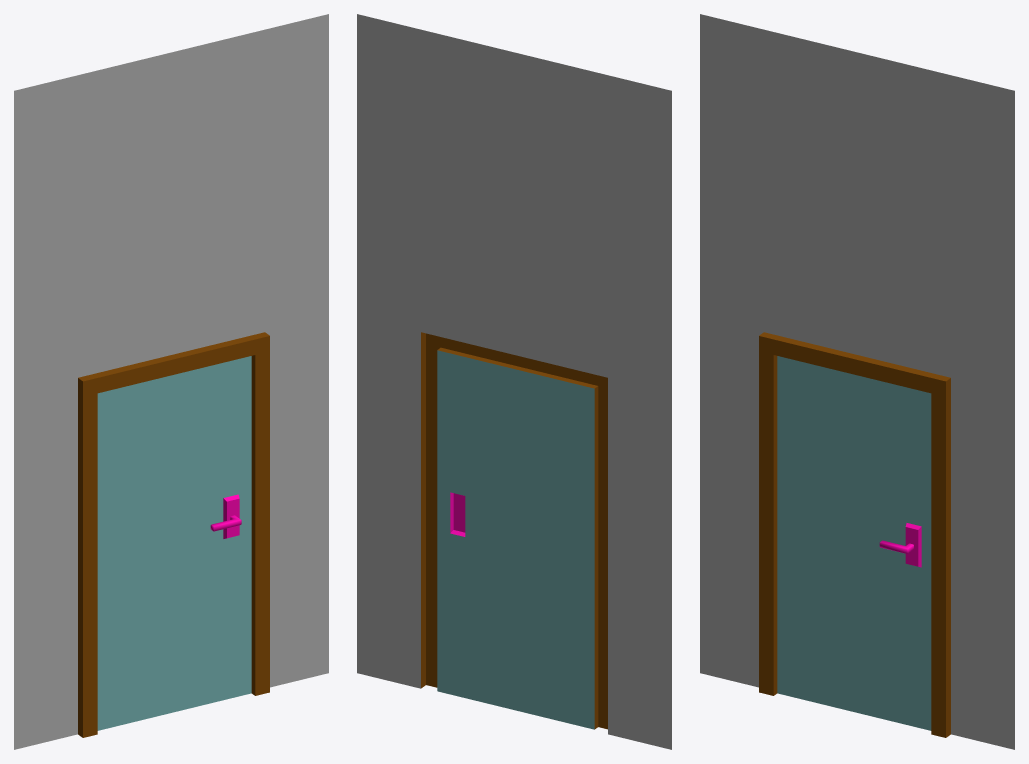
File: mesh_wall_doorframe_combined.fbx
3 views of the same model, side by side, from view 1: azimuth 30°, elevation 25°; view 2: azimuth 150°, elevation 25°; view 3: azimuth 330°, elevation 25° (orthographic).
Visible parts, largest first — view 1: mesh_wall_doorframe_combined; view 2: mesh_wall_doorframe_combined; view 3: mesh_wall_doorframe_combined.
Boxes of the visible parts, x1=… form: mesh_wall_doorframe_combined: x1=14, y1=14, x2=328, y2=749; mesh_wall_doorframe_combined: x1=357, y1=14, x2=671, y2=749; mesh_wall_doorframe_combined: x1=700, y1=14, x2=1014, y2=749.
Bounding box in the file's own units: 2 × 4 × 0.1119.
